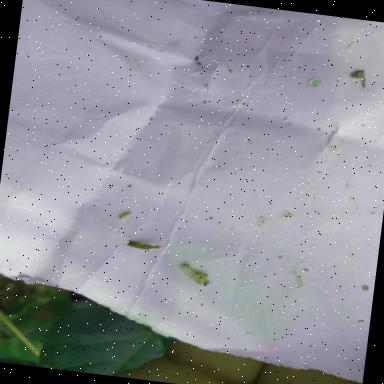pbw: (178, 262, 212, 286)
